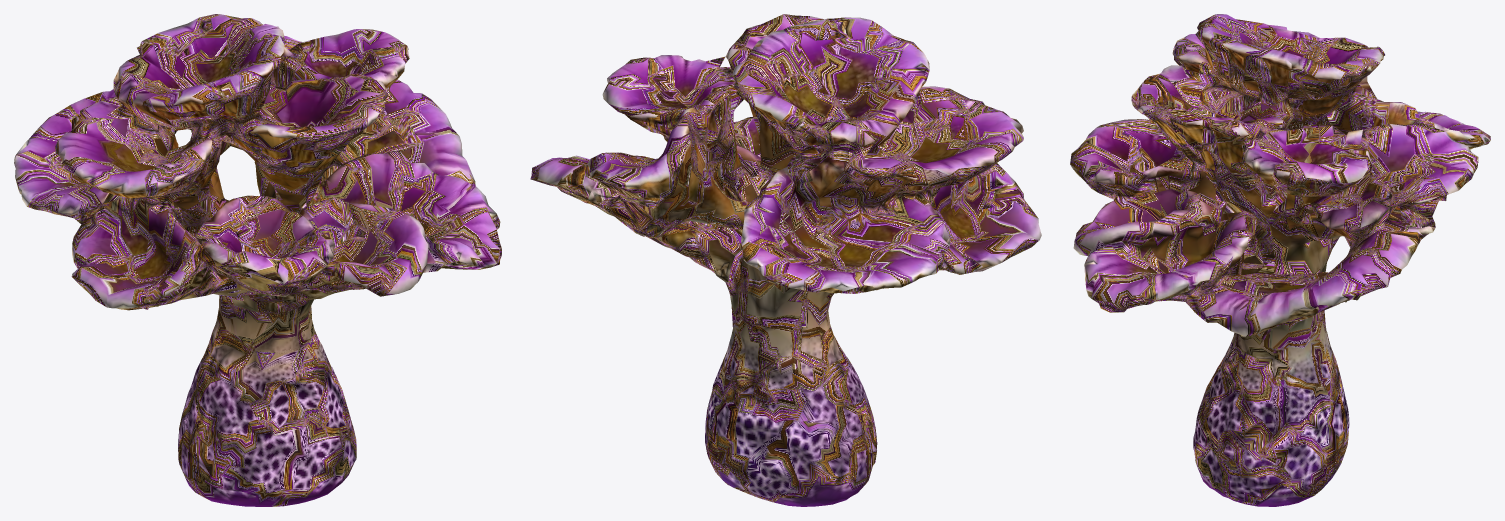
3 renders of one model, left to right at view 1: azimuth 30°, elevation 25°; view 2: azimuth 150°, elevation 25°; view 3: azimuth 270°, elevation 25°, orthographic. The views are drawn at different scales.
Bounding box in the file's own units: 1.86 × 1.9 × 1.67.
Materials: 1 (1 with a texture image).
